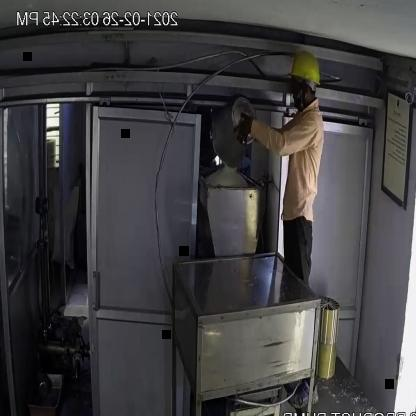helmet: (286, 49, 322, 90)
